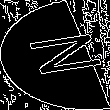N_E: (9, 30, 101, 80)
